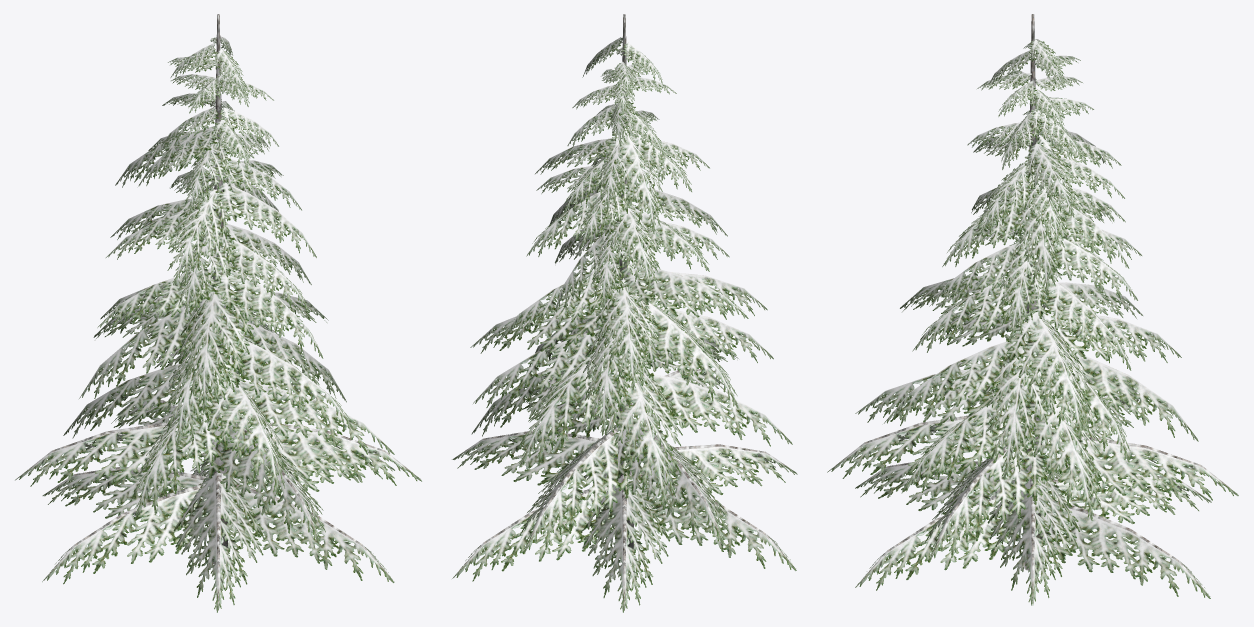
The model's file is Pine_Tree.obj.
3 renders of one model, left to right at view 1: azimuth 30°, elevation 25°; view 2: azimuth 150°, elevation 25°; view 3: azimuth 270°, elevation 25°, orthographic. The views are drawn at different scales.
Parts seen in each view (by area): view 1: Pine_Tree_01; view 2: Pine_Tree_01; view 3: Pine_Tree_01.
Part boxes in pixels (box(x1,y1,x2,y2)): Pine_Tree_01: box(15, 14, 421, 612); Pine_Tree_01: box(452, 14, 797, 612); Pine_Tree_01: box(827, 14, 1238, 605).
Bounding box in the file's own units: 167 × 247 × 167.
